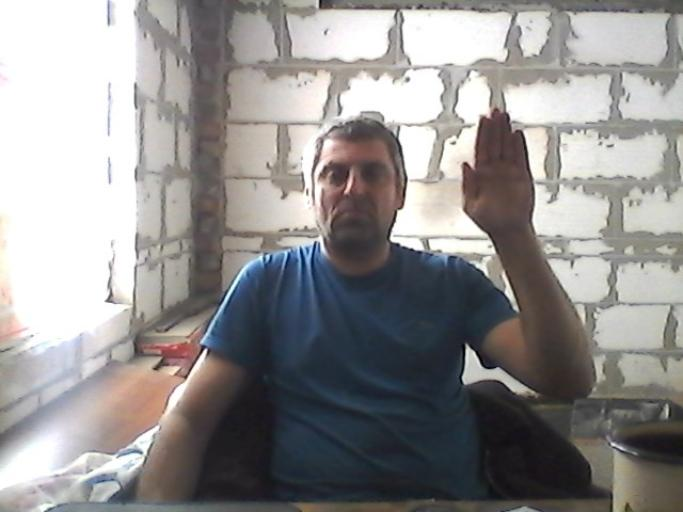stop: (457, 106, 536, 232)
